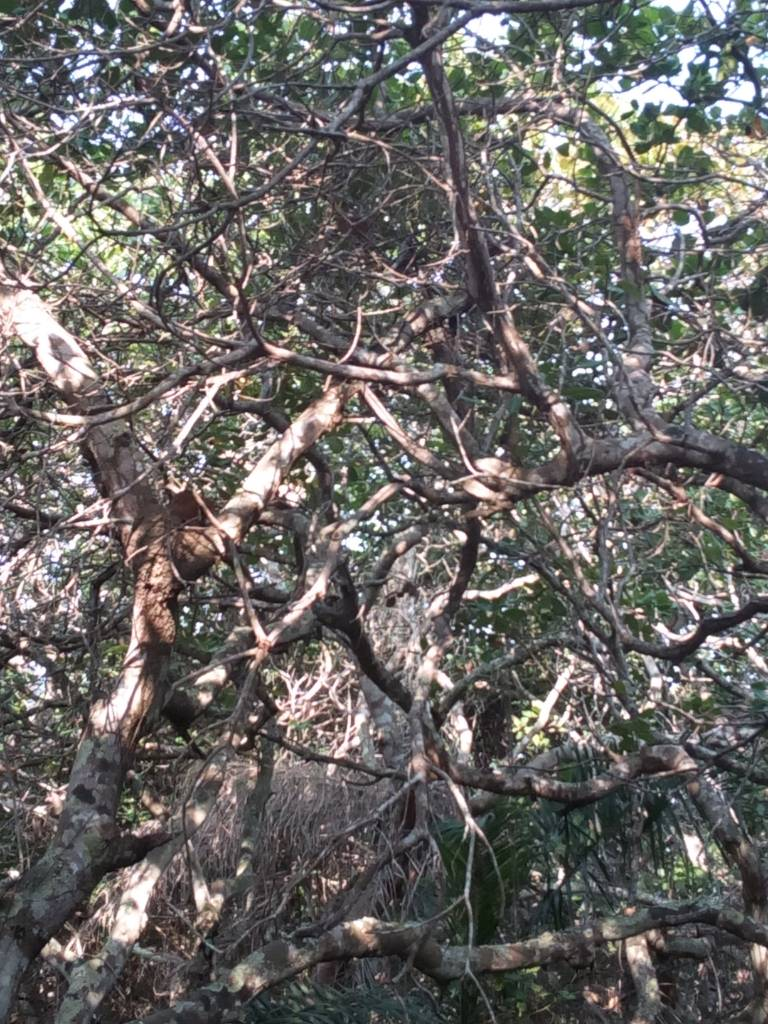Termites: (130, 500, 193, 667)
